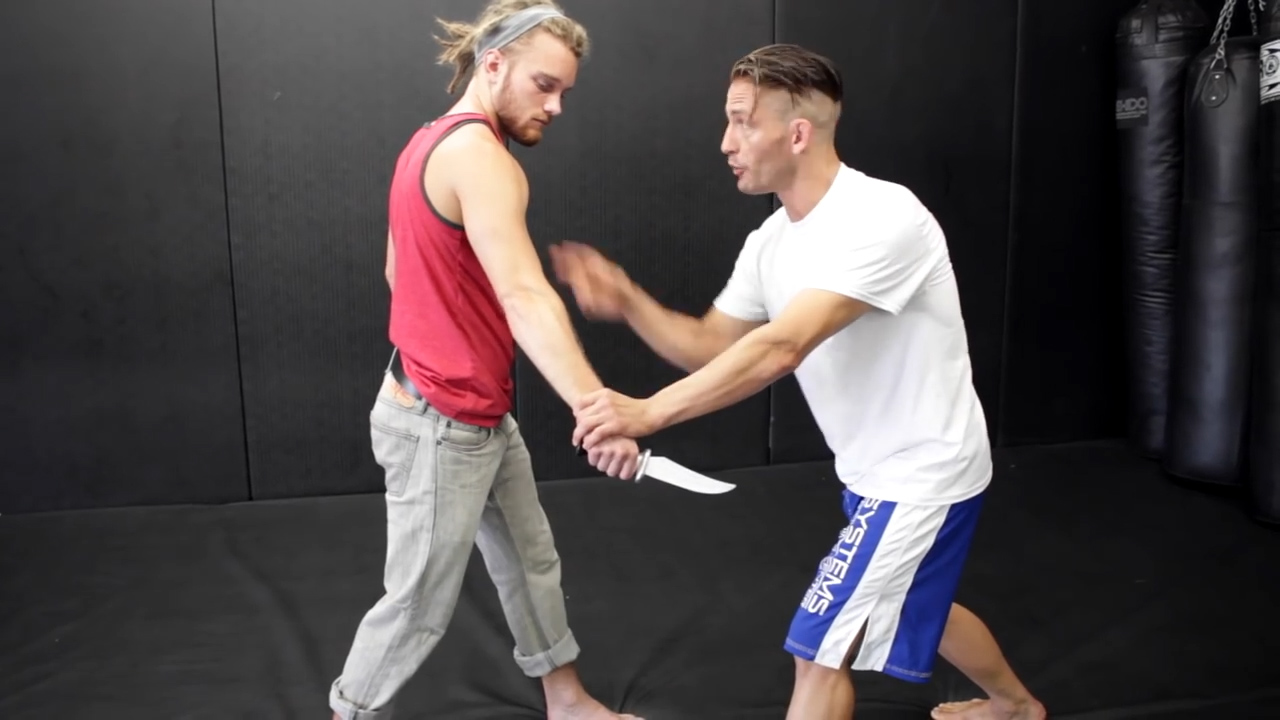knife: (576, 443, 743, 507)
